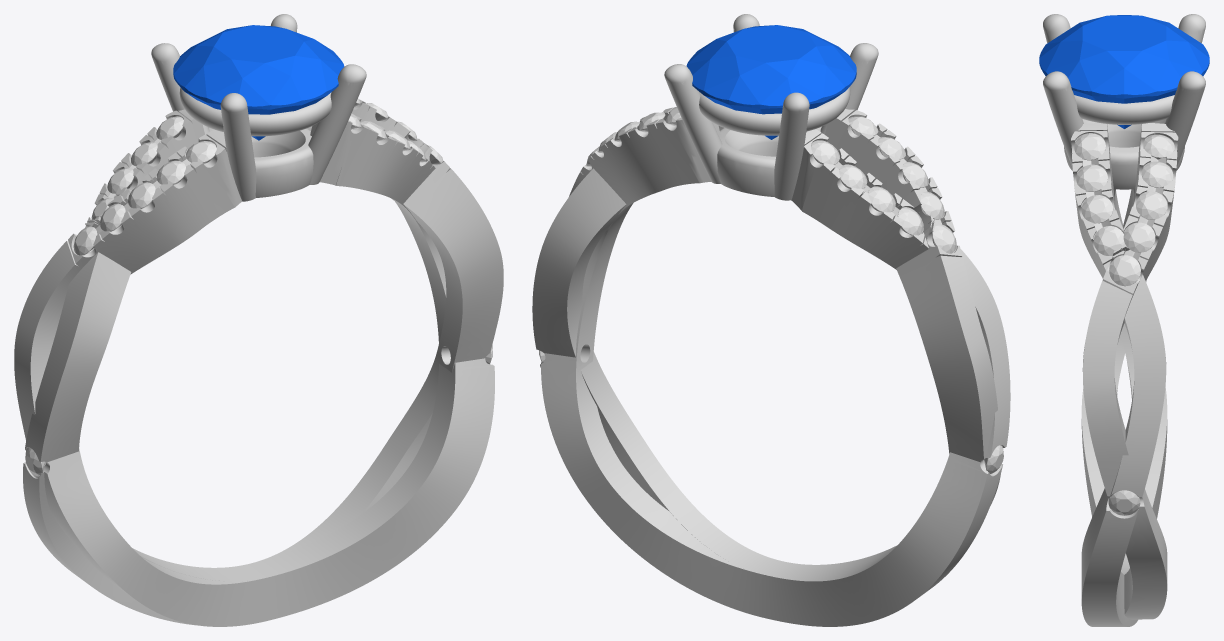
File: bluesapphire-round-platinum-4prong-twist-sidestones.glb
The picture shows the model from 3 angles, left to right: view 1: azimuth 30°, elevation 25°; view 2: azimuth 150°, elevation 25°; view 3: azimuth 270°, elevation 25°; orthographic projection.
Visible parts, largest first — view 1: metal, stone; view 2: metal, stone; view 3: metal, stone, side.015, side.016, side.017, side.012, side.011, side.013, side.014, side.018, side.010, side.019.
Boxes of the visible parts, bbox=[...] form: metal: bbox=[14, 14, 503, 626]; stone: bbox=[173, 25, 344, 140]; metal: bbox=[532, 14, 1010, 626]; stone: bbox=[686, 25, 856, 139]; metal: bbox=[1043, 14, 1205, 626]; stone: bbox=[1039, 15, 1209, 128]; side.015: bbox=[1109, 255, 1140, 286]; side.016: bbox=[1123, 222, 1155, 252]; side.017: bbox=[1136, 191, 1167, 219]; side.012: bbox=[1081, 195, 1113, 223]; side.011: bbox=[1094, 226, 1124, 255]; side.013: bbox=[1076, 164, 1107, 191]; side.014: bbox=[1074, 133, 1105, 160]; side.018: bbox=[1141, 161, 1173, 187]; side.010: bbox=[1108, 490, 1140, 515]; side.019: bbox=[1143, 134, 1174, 157].
Size of the model in its own units: 19.97 by 23.61 by 6.44.
